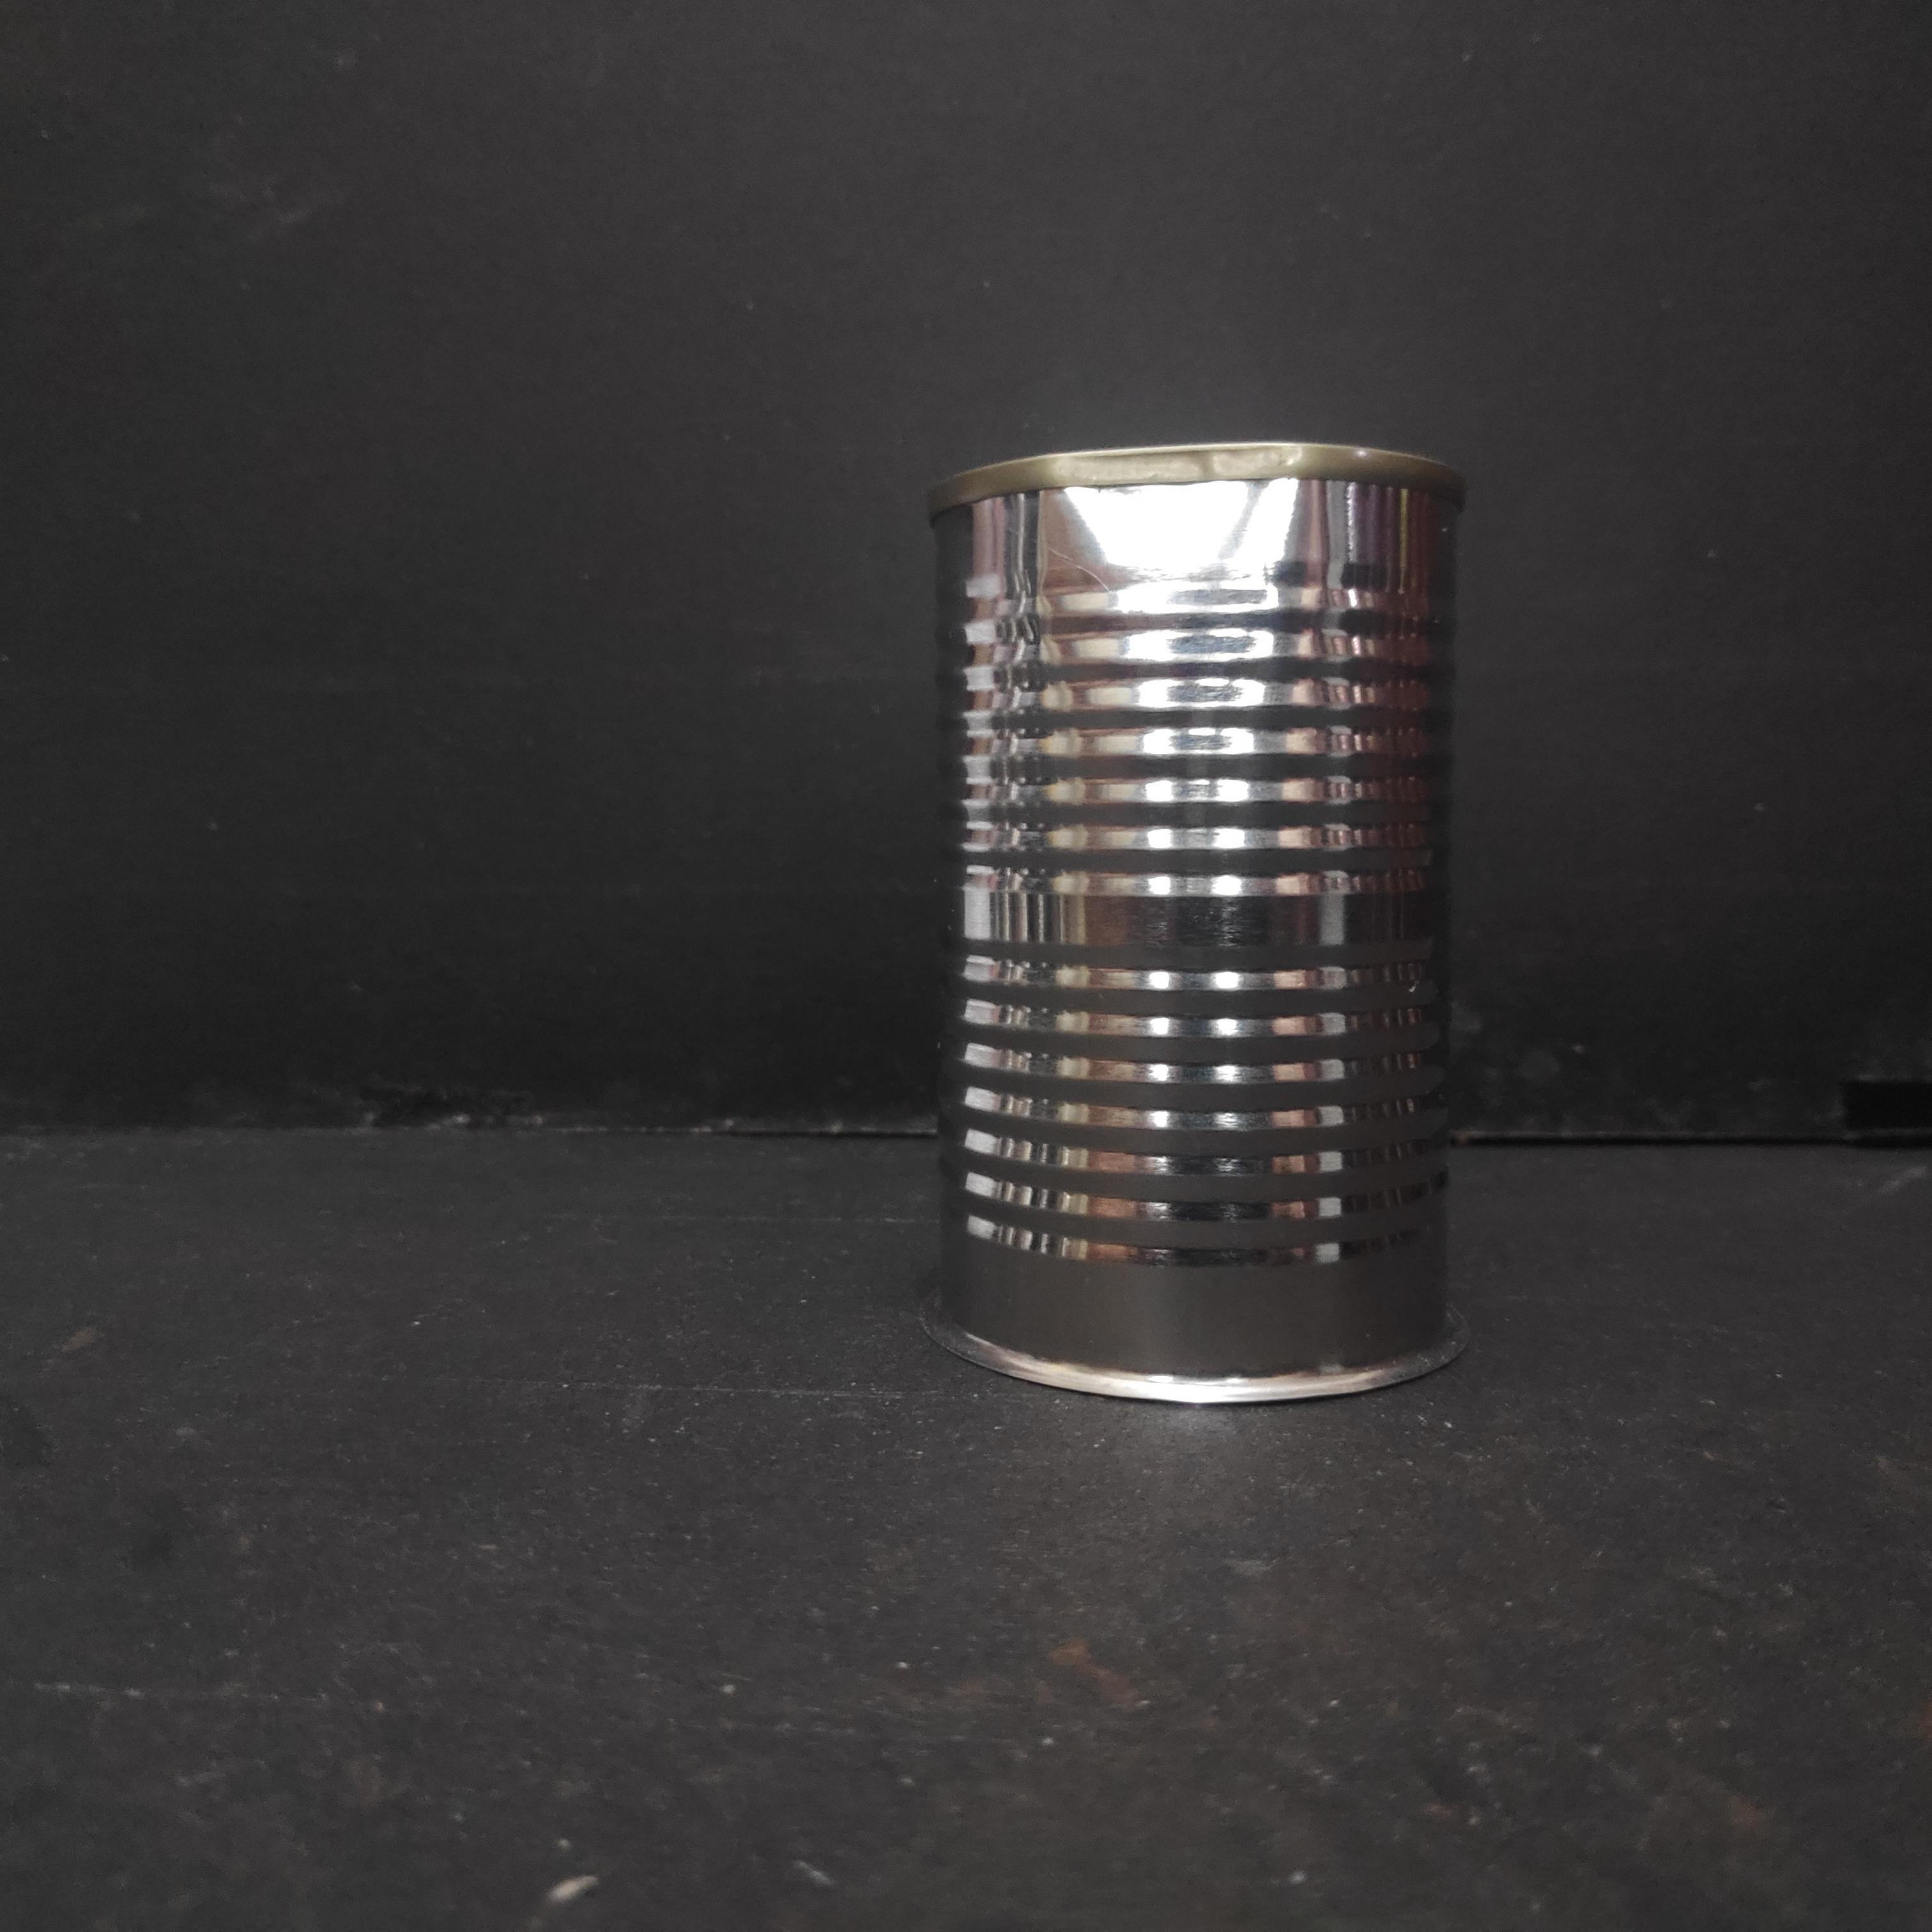Minor Defect: (918, 429, 1477, 1411)
